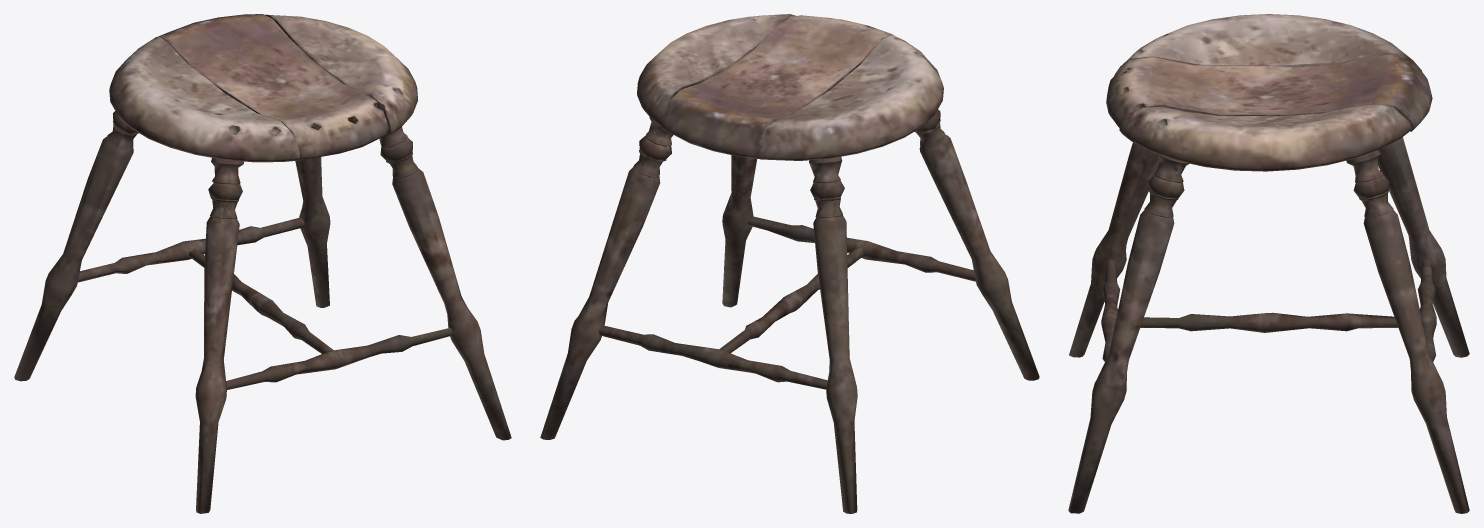
File: stool.glb
3 renders of one model, left to right at view 1: azimuth 30°, elevation 25°; view 2: azimuth 150°, elevation 25°; view 3: azimuth 270°, elevation 25°, orthographic. The views are drawn at different scales.
Parts seen in each view (by area): view 1: wooden_stool_01; view 2: wooden_stool_01; view 3: wooden_stool_01.
Boxes of the visible parts, x1,y1,x2,y2 form: wooden_stool_01: [14, 14, 511, 513]; wooden_stool_01: [540, 14, 1039, 513]; wooden_stool_01: [1068, 14, 1469, 513].
Size of the model in its own units: 0.4246 by 0.4365 by 0.4417.
Materials: 1 (1 with a texture image).
